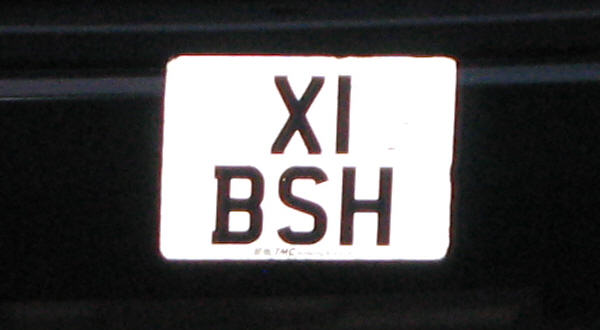license_plate: (159, 52, 457, 263)
